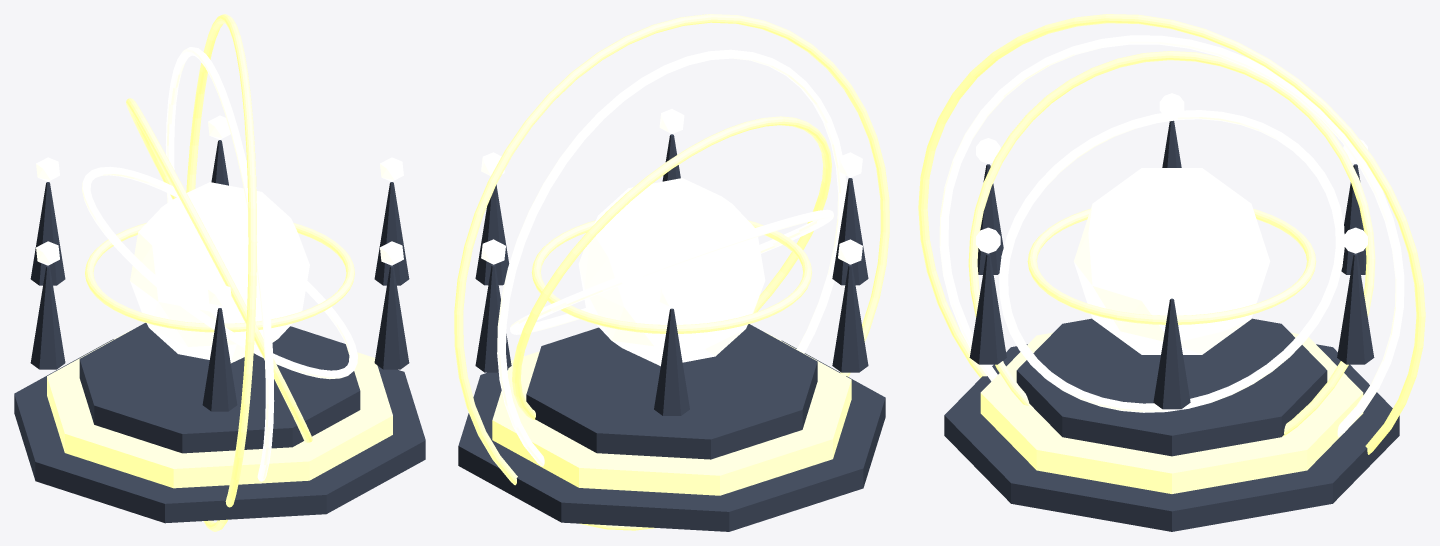
File: gpu-blender-v52.glb
3 views of the same model, side by side, from view 1: azimuth 30°, elevation 25°; view 2: azimuth 150°, elevation 25°; view 3: azimuth 270°, elevation 25° (orthographic). The views are drawn at different scales.
Parts seen in each view (by area): view 1: Cylinder.002, Cylinder, SovereignCore_reality-shader-forge, Cylinder.001, Torus.004, Torus.003, Torus.001, Torus, Torus.002, Cone.004, Cone.003, Cone.005 (+3 smaller); view 2: Cylinder.002, SovereignCore_reality-shader-forge, Cylinder, Cylinder.001, Torus.004, Torus.003, Torus.002, Torus.001, Torus, Cone.003, Cone.002, Cone.001 (+2 smaller); view 3: SovereignCore_reality-shader-forge, Cylinder.002, Cylinder, Cylinder.001, Torus.004, Torus.001, Torus.003, Torus.002, Torus, Cone, Cone.001, Cone.005 (+3 smaller).
Boxes of the visible parts, bbox=[...] form: Cylinder.002: bbox=[79, 323, 360, 453]; Cylinder: bbox=[14, 339, 425, 523]; SovereignCore_reality-shader-forge: bbox=[130, 182, 309, 363]; Cylinder.001: bbox=[47, 330, 392, 488]; Torus.004: bbox=[186, 14, 257, 531]; Torus.003: bbox=[165, 47, 274, 483]; Torus.001: bbox=[82, 166, 357, 379]; Torus: bbox=[85, 223, 354, 332]; Torus.002: bbox=[126, 98, 312, 442]; Cone.004: bbox=[202, 308, 237, 411]; Cone.003: bbox=[30, 266, 65, 369]; Cone.005: bbox=[374, 266, 409, 369]; Cylinder.002: bbox=[526, 324, 817, 459]; SovereignCore_reality-shader-forge: bbox=[578, 178, 765, 366]; Cylinder: bbox=[458, 340, 885, 531]; Cylinder.001: bbox=[492, 331, 851, 495]; Torus.004: bbox=[454, 14, 889, 530]; Torus.003: bbox=[497, 49, 846, 466]; Torus.002: bbox=[512, 116, 831, 419]; Torus.001: bbox=[510, 209, 833, 334]; Torus: bbox=[531, 220, 812, 333]; Cone.003: bbox=[832, 265, 868, 372]; Cone.002: bbox=[654, 308, 689, 415]; Cone.001: bbox=[475, 265, 511, 372]; SovereignCore_reality-shader-forge: bbox=[1073, 168, 1270, 354]; Cylinder.002: bbox=[1016, 318, 1327, 456]; Cylinder: bbox=[944, 344, 1399, 531]; Cylinder.001: bbox=[980, 332, 1363, 493]; Torus.004: bbox=[918, 14, 1425, 454]; Torus.001: bbox=[999, 110, 1344, 412]; Torus.003: bbox=[939, 35, 1404, 437]; Torus.002: bbox=[968, 51, 1375, 435]; Torus: bbox=[1027, 209, 1316, 324]; Cone: bbox=[1153, 298, 1190, 409]; Cone.001: bbox=[1337, 254, 1374, 364]; Cone.005: bbox=[969, 254, 1006, 364].
Size of the model in its own units: 4.41 by 5.33 by 4.9.
